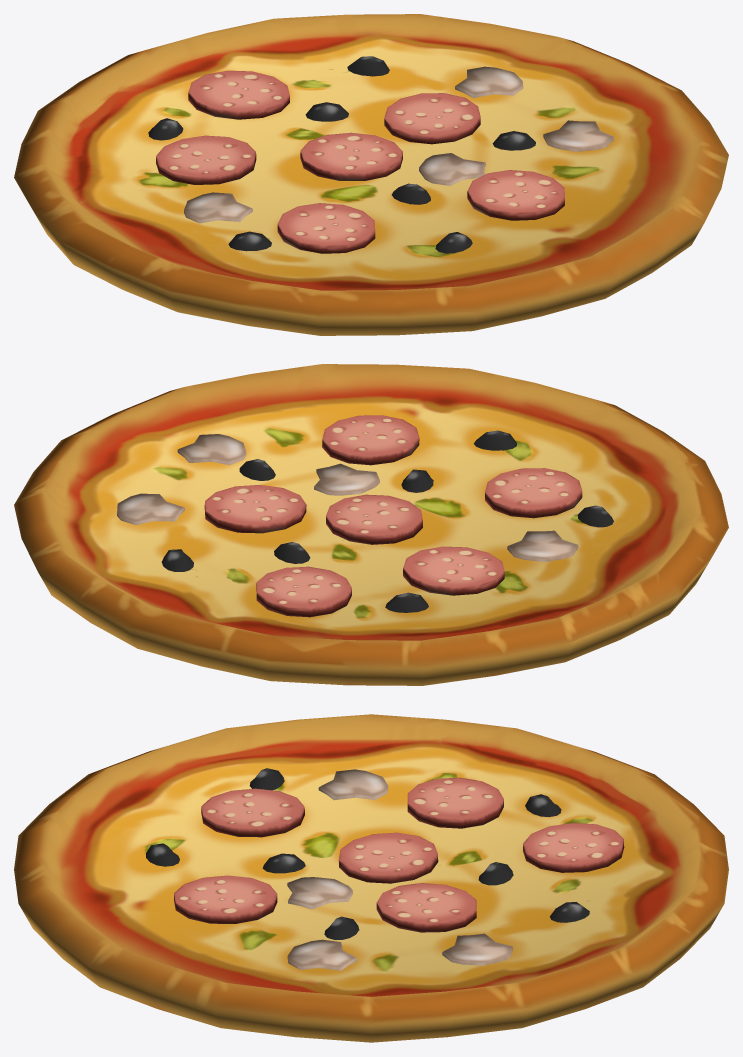
The model's file is Pizza.fbx.
3 renders of one model, top to bottom at view 1: azimuth 30°, elevation 25°; view 2: azimuth 150°, elevation 25°; view 3: azimuth 270°, elevation 25°, orthographic.
Visible parts, largest first — view 1: Circle.005; view 2: Circle.005; view 3: Circle.005.
Part boxes in pixels (left/top/right/bottom): Circle.005: left=14, top=14, right=728, bottom=335; Circle.005: left=14, top=364, right=728, bottom=685; Circle.005: left=14, top=714, right=728, bottom=1042.
Bounding box in the file's own units: 467 × 28.64 × 461.
